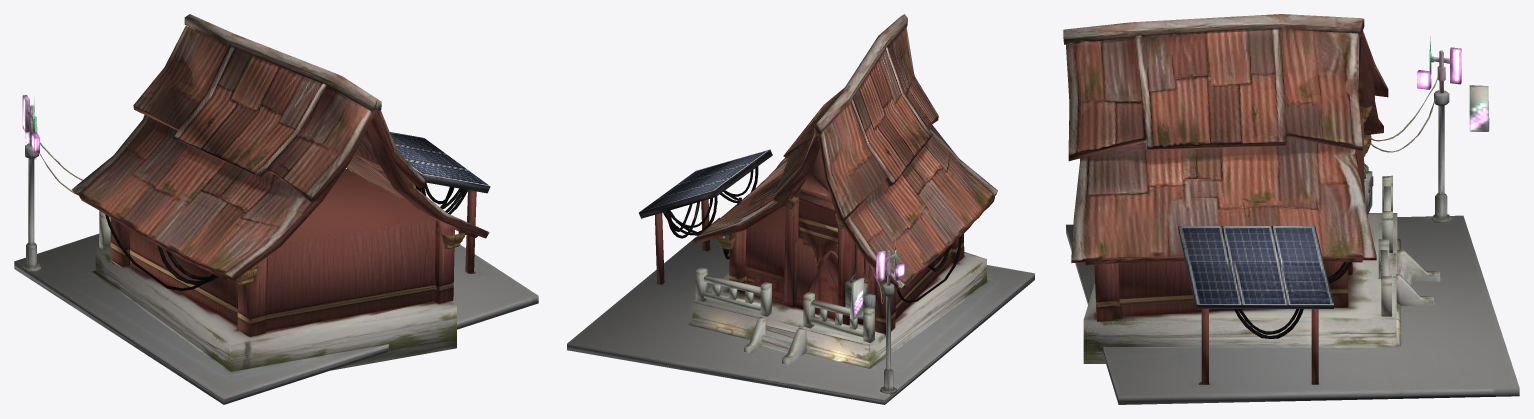
File: lao_sim.glb
3 views of the same model, side by side, from view 1: azimuth 30°, elevation 25°; view 2: azimuth 150°, elevation 25°; view 3: azimuth 270°, elevation 25° (orthographic). The views are drawn at different scales.
Visible parts, largest first — view 1: Body; view 2: Body, Glow; view 3: Body, Glow.
Part boxes in pixels (x1=…): Body: x1=14, y1=14, x2=538, y2=404; Body: x1=567, y1=14, x2=1034, y2=404; Glow: x1=853, y1=237, x2=904, y2=319; Body: x1=1063, y1=14, x2=1519, y2=404; Glow: x1=1417, y1=41, x2=1488, y2=131.
Size of the model in its own units: 14 by 10.46 by 14.81.
Materials: 2 (2 with a texture image).
